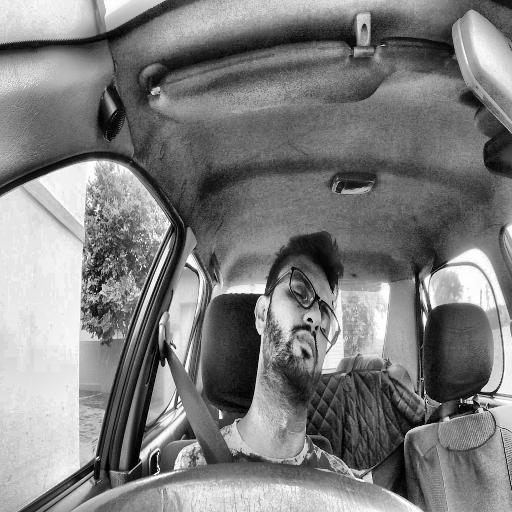drowsy: (254, 230, 342, 409)
